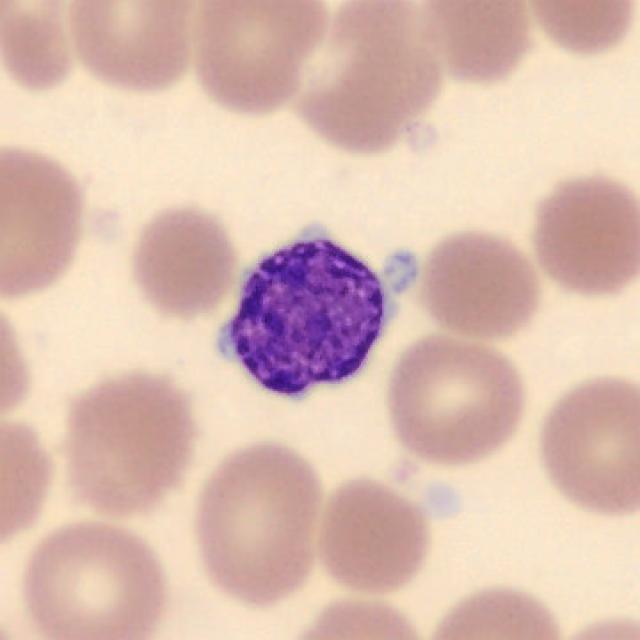Linfocito: (217, 240, 386, 396)
